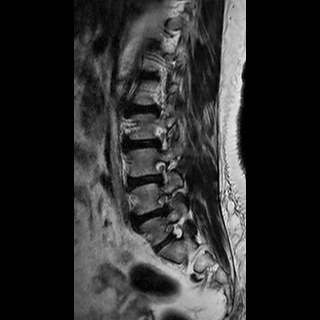RFS1: (147, 157, 175, 188)
